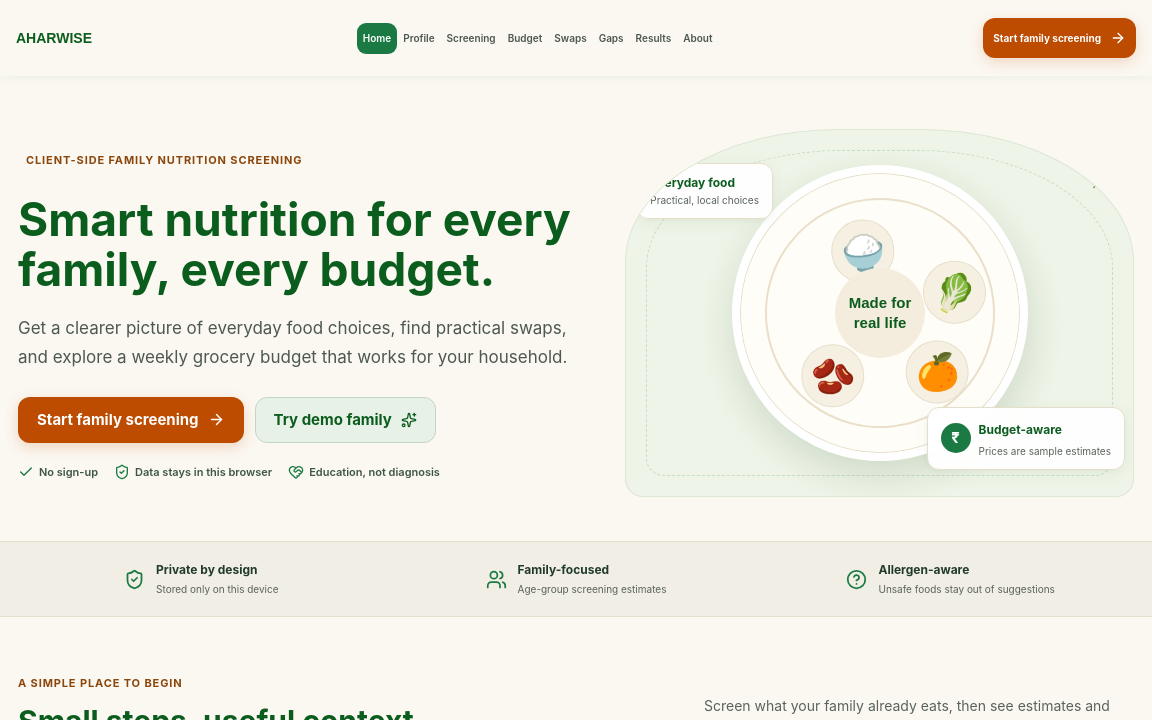
Test: AHARWISE end-to-end user flows › navigates Budget, Substitutions, Gaps, and About pages cleanly
Later steps or results of the test are not shown.
Click the button "Try demo family": click(345, 420) x1=254 y1=397 x2=436 y2=443
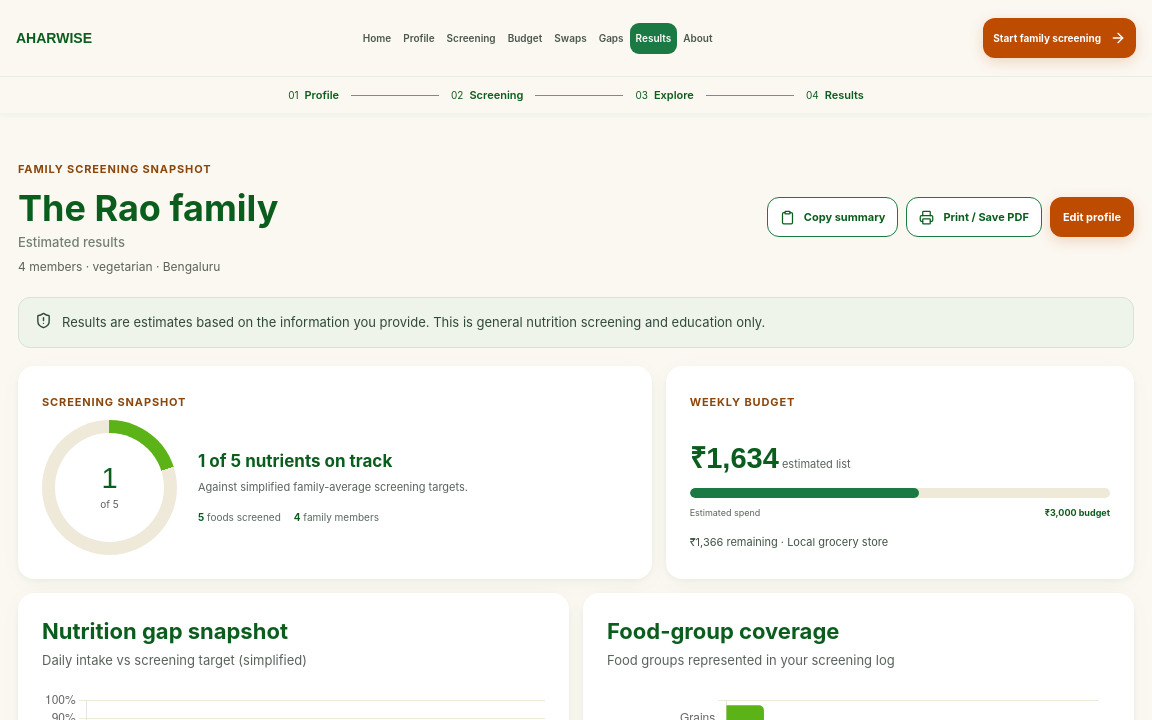
Check: the heading "The Rao family Estimated results" is shown, box x1=18 y1=188 x2=278 y2=250
Click the link "Budget": click(525, 38) x1=508 y1=32 x2=542 y2=44
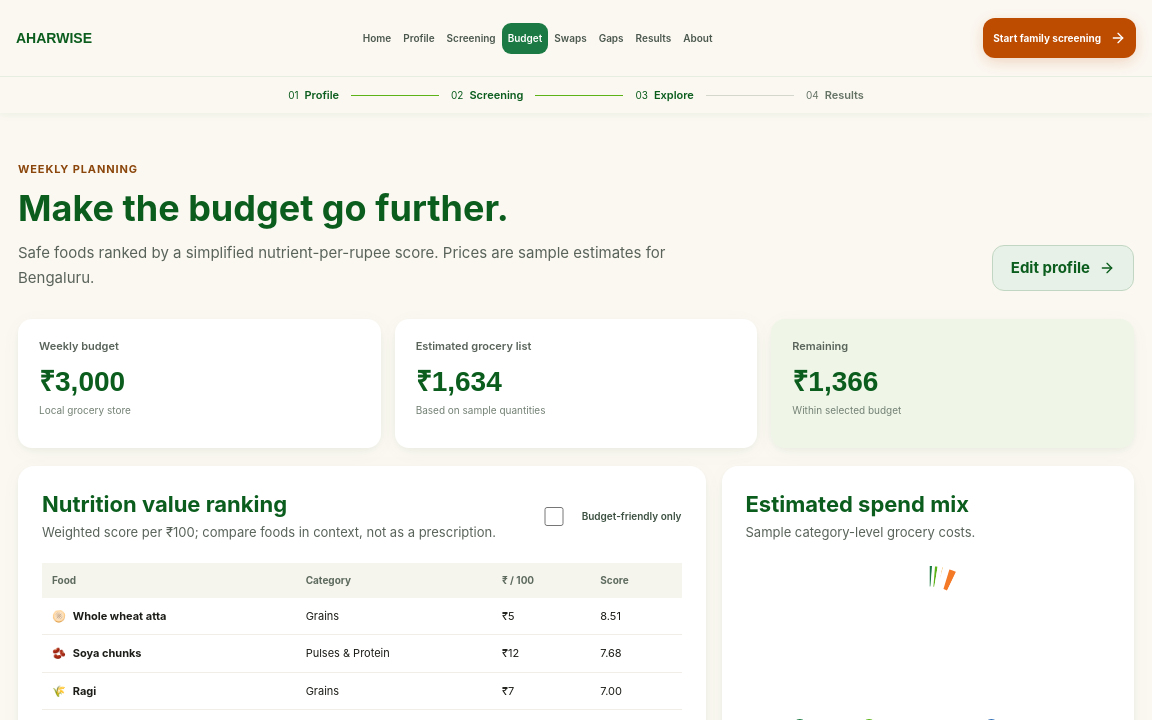
Check: the heading "Make the budget go further." is shown, box x1=18 y1=186 x2=509 y2=230
Click the checkbox labelled "Budget-friendly only": click(554, 517) x1=537 y1=507 x2=571 y2=526
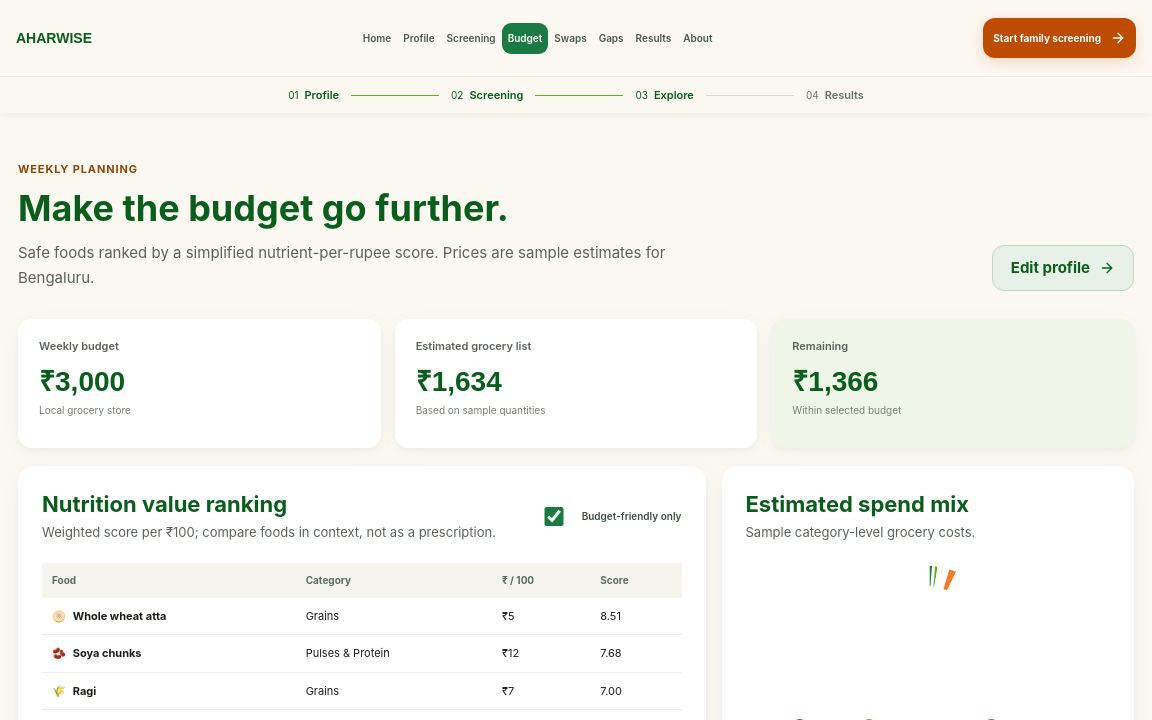
Click the link "Swaps": click(570, 38) x1=554 y1=32 x2=587 y2=44
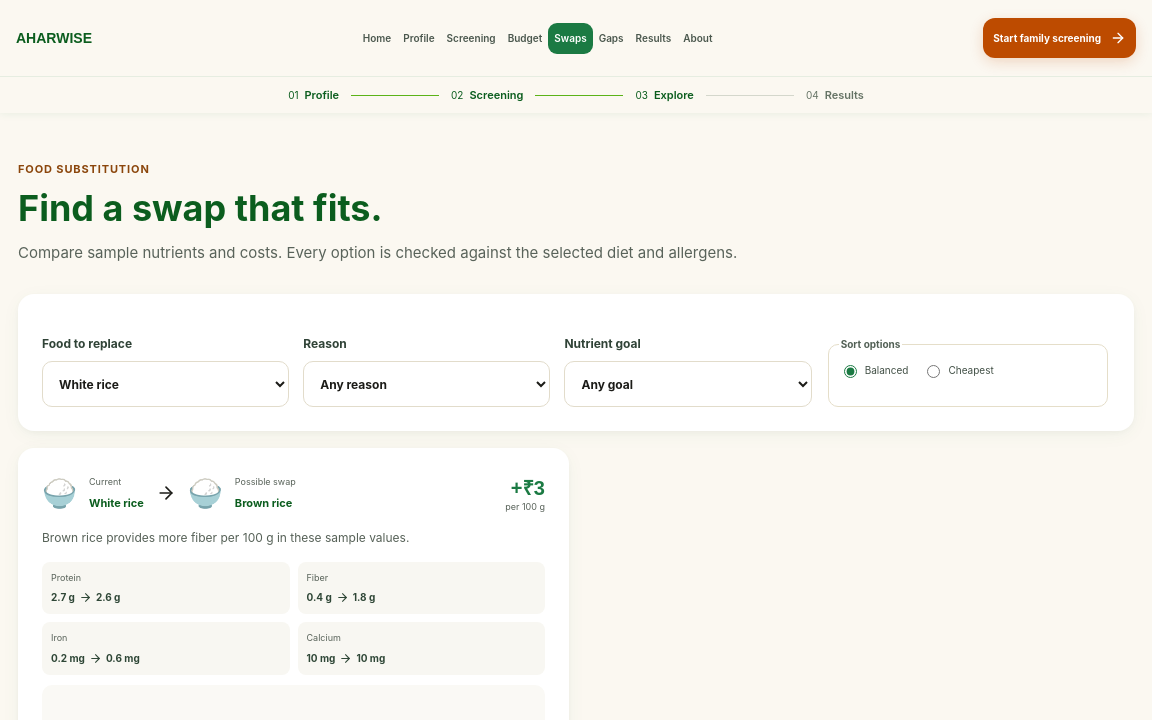
Check: the heading "Find a swap that fits." is shown, box x1=18 y1=186 x2=382 y2=230
Click the link "Gaps": click(611, 38) x1=599 y1=32 x2=624 y2=44
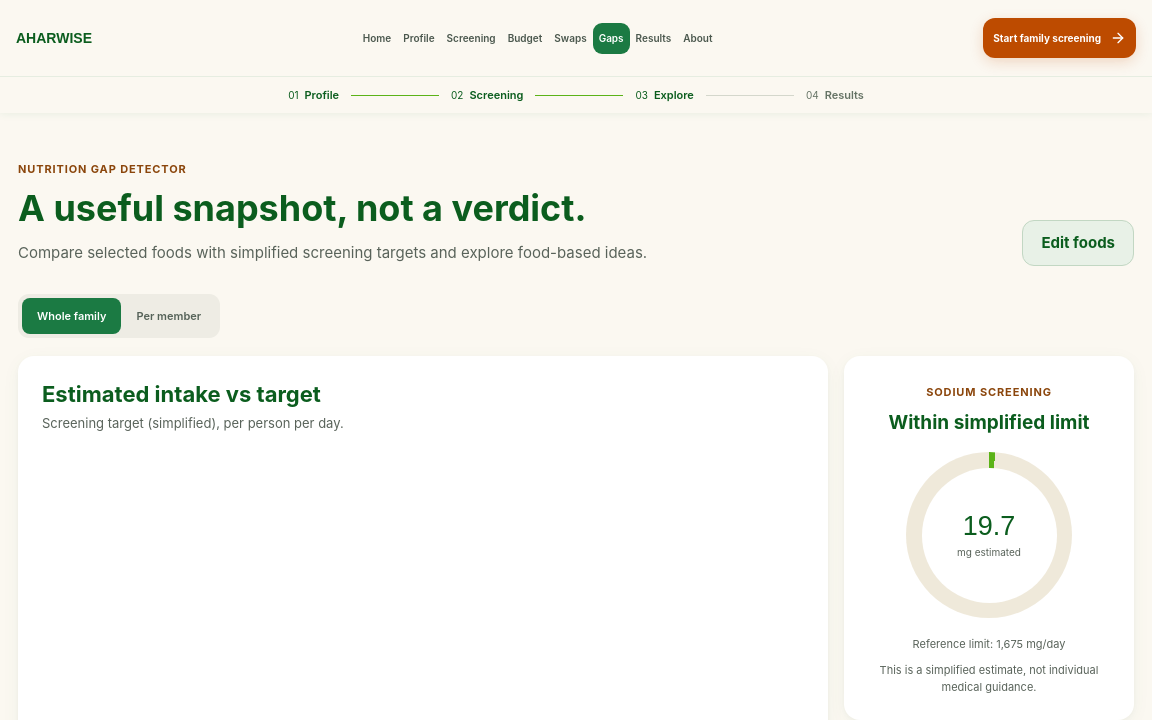
Check: the heading "A useful snapshot, not a verdict." is shown, box x1=18 y1=188 x2=647 y2=229
Click the tab "Per member": click(169, 316) x1=121 y1=298 x2=216 y2=334
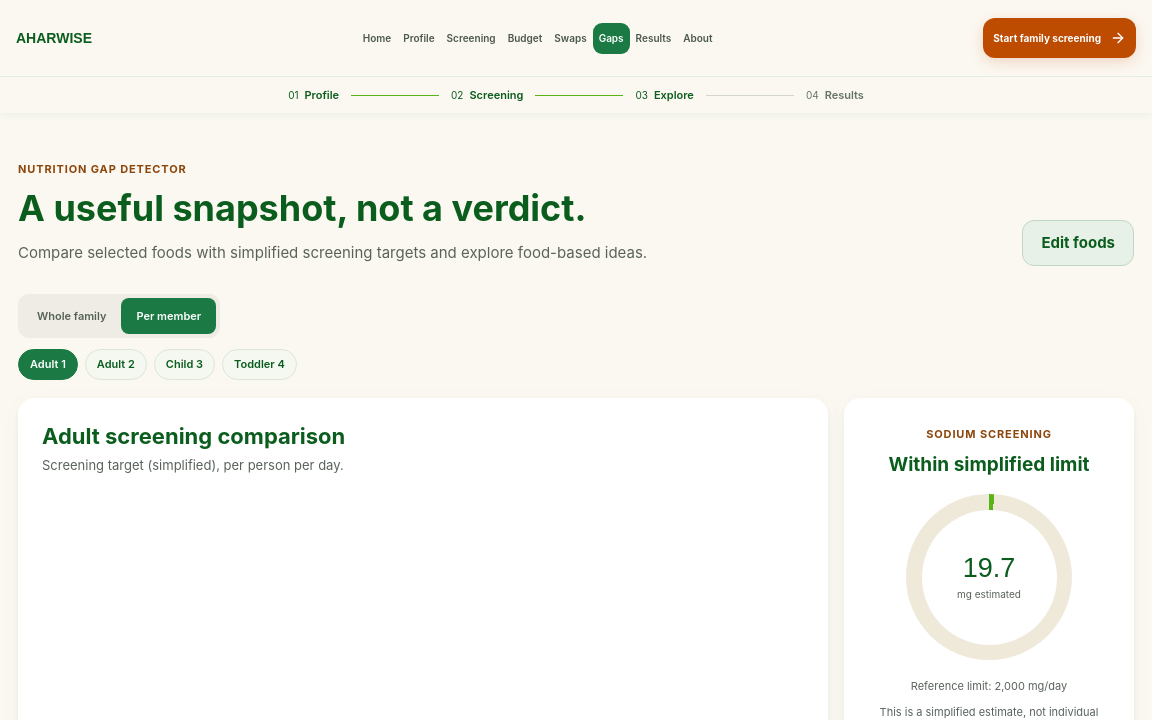
Check: the tab "Toddler 4" is shown, box x1=222 y1=349 x2=297 y2=380
